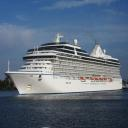cruises: (5, 31, 125, 98)
